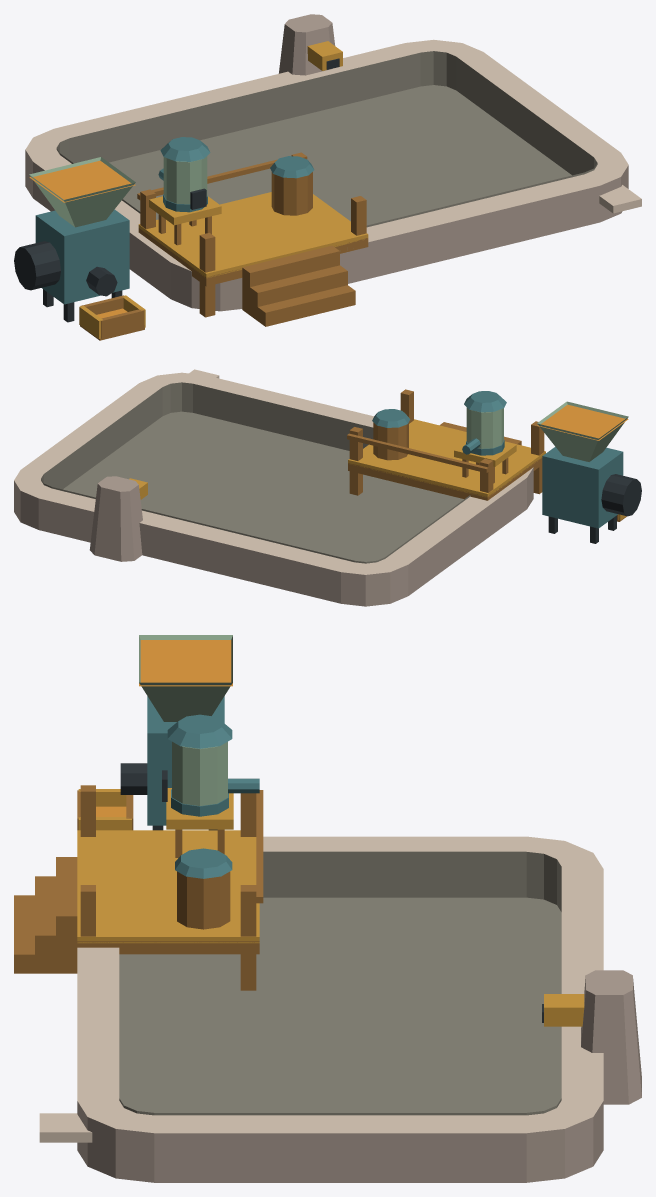
Rendered from FishPond_A_Lv2_Low.fbx.
3 views of the same model, one above another, from view 1: azimuth 30°, elevation 25°; view 2: azimuth 150°, elevation 25°; view 3: azimuth 270°, elevation 25° (orthographic). The views are drawn at different scales.
Parts seen in each view (by area): view 1: FishPond_A_Lv2_Low; view 2: FishPond_A_Lv2_Low; view 3: FishPond_A_Lv2_Low.
Part boxes in pixels (x1=…): FishPond_A_Lv2_Low: x1=14, y1=14, x2=641, y2=340; FishPond_A_Lv2_Low: x1=14, y1=369, x2=641, y2=606; FishPond_A_Lv2_Low: x1=14, y1=635, x2=641, y2=1182.
Size of the model in its own units: 12.97 by 2.87 by 8.95.
